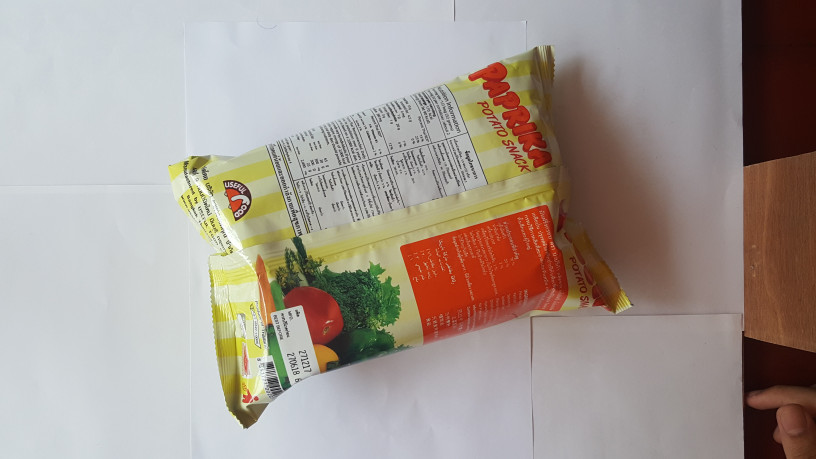paprika: (164, 43, 635, 445)
